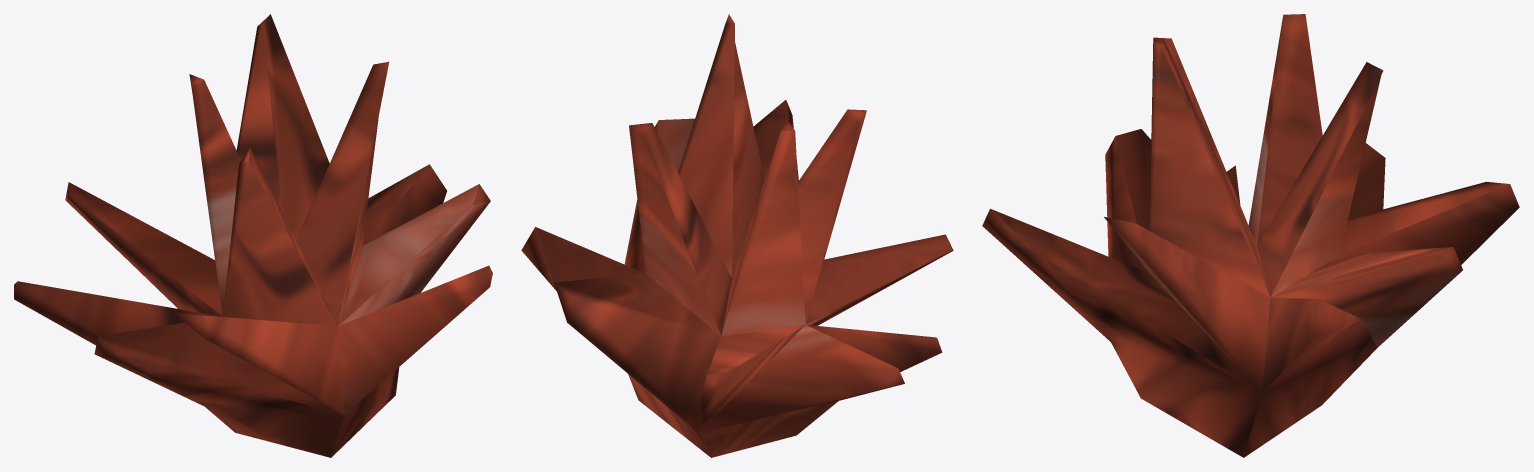
The model's file is HellRock.fbx.
The picture shows the model from 3 angles, left to right: view 1: azimuth 30°, elevation 25°; view 2: azimuth 150°, elevation 25°; view 3: azimuth 270°, elevation 25°; orthographic projection. The views are drawn at different scales.
Visible parts, largest first — view 1: Rock; view 2: Rock; view 3: Rock.
Part boxes in pixels (<box>): Rock: <box>14,14,492,457</box>; Rock: <box>521,14,953,457</box>; Rock: <box>982,14,1519,457</box>.
Bounding box in the file's own units: 278 × 250 × 302.
Materials: 1 (1 with a texture image).
